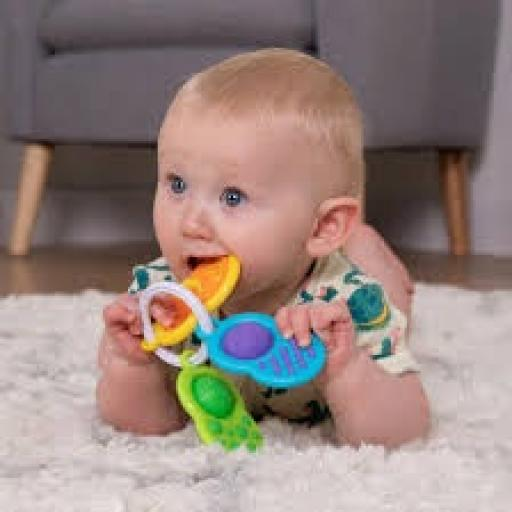baby: (96, 51, 429, 448)
